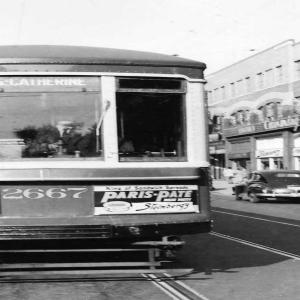Vehicle-registration-plate: (74, 185, 201, 214), (290, 187, 300, 194)
